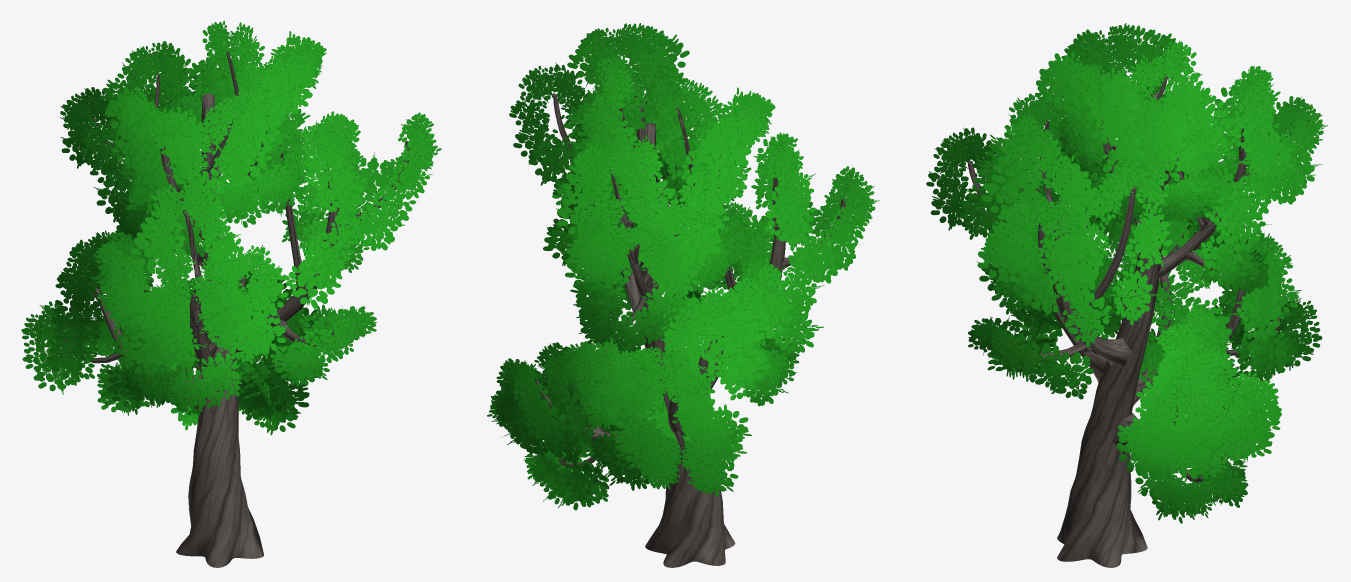
File: TwistedTree_3.gltf
3 renders of one model, left to right at view 1: azimuth 30°, elevation 25°; view 2: azimuth 150°, elevation 25°; view 3: azimuth 270°, elevation 25°, orthographic. The views are drawn at different scales.
Parts seen in each view (by area): view 1: TwistedTree_3; view 2: TwistedTree_3; view 3: TwistedTree_3.
Part boxes in pixels (x1,y1,x2,y2): TwistedTree_3: (21,21,441,567); TwistedTree_3: (487,23,879,567); TwistedTree_3: (926,23,1327,567).
Bounding box in the file's own units: 11.36 × 16.07 × 11.51.
Materials: 2 (2 with a texture image).
